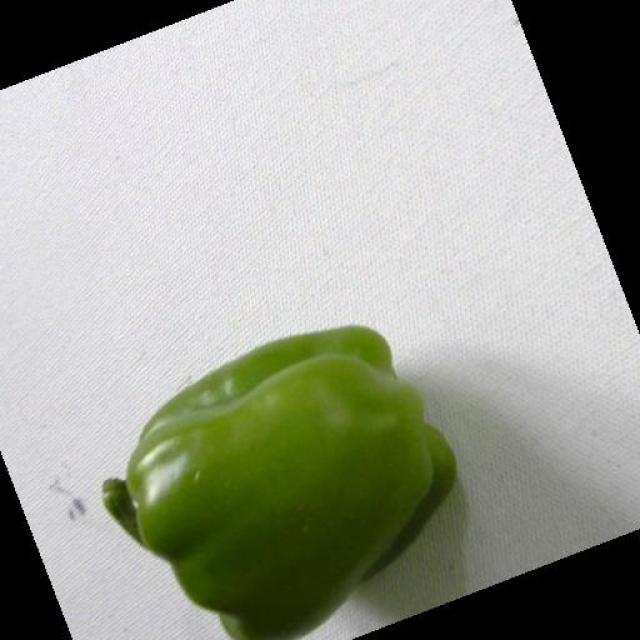Fresh_Capsicum: (107, 382, 446, 582)
